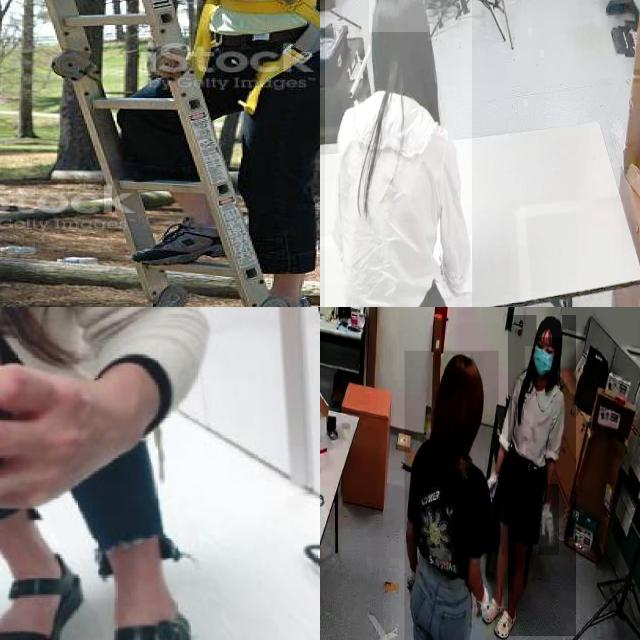Harness: (188, 0, 320, 92)
Sandals: (86, 562, 208, 640), (0, 535, 85, 640)
face_mask: (525, 346, 557, 386)
hand_glove: (538, 484, 560, 556), (485, 456, 501, 506)
head_nohelmet: (369, 0, 429, 33), (435, 352, 484, 388), (536, 315, 562, 338)
person: (325, 0, 472, 307), (404, 351, 499, 640), (508, 315, 576, 637)
